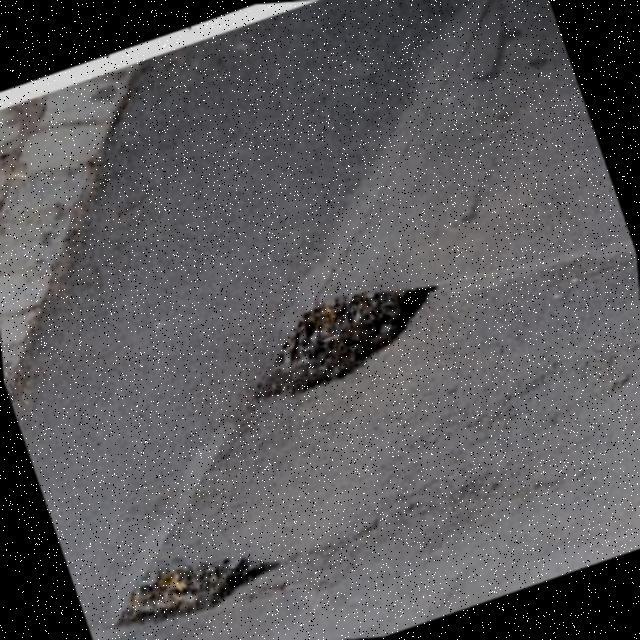Pothole: (254, 284, 437, 398), (116, 558, 278, 626)
